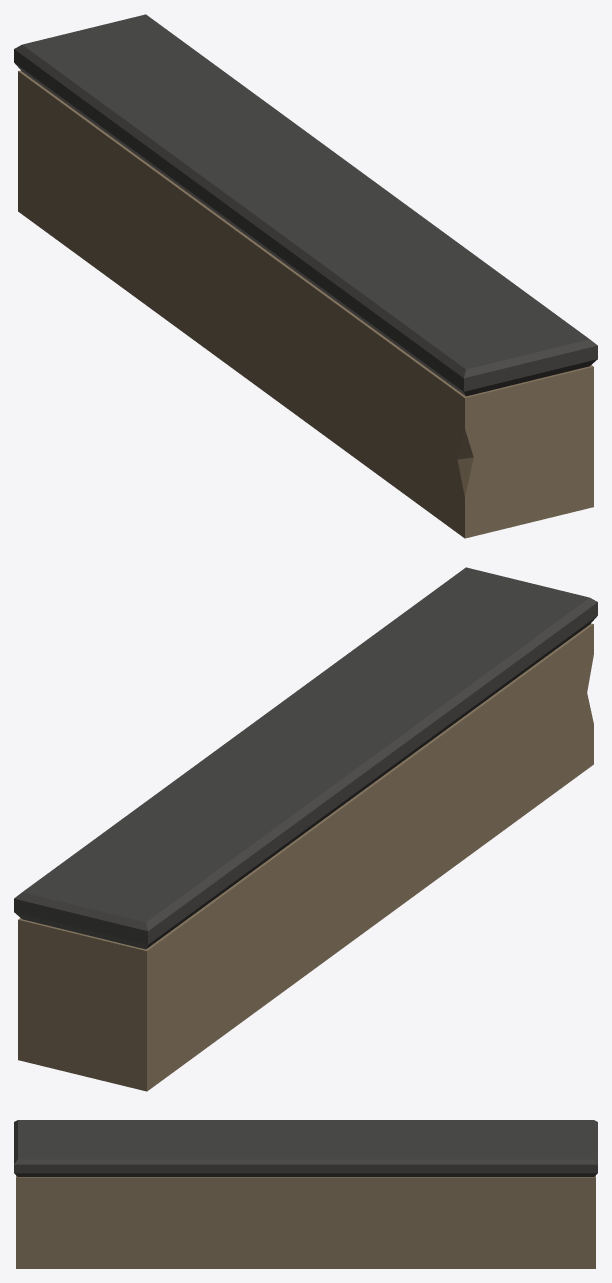
File: SM_Props_City_PlayGround_Skatepark_Element_01.fbx
The picture shows the model from 3 angles, top to bottom: view 1: azimuth 30°, elevation 25°; view 2: azimuth 150°, elevation 25°; view 3: azimuth 270°, elevation 25°; orthographic projection. The views are drawn at different scales.
Visible parts, largest first — view 1: SM_Props_City_PlayGround_Skatepark_Element_01; view 2: SM_Props_City_PlayGround_Skatepark_Element_01; view 3: SM_Props_City_PlayGround_Skatepark_Element_01.
Part boxes in pixels (x1,y1,x2,y2): SM_Props_City_PlayGround_Skatepark_Element_01: [14, 14, 597, 538]; SM_Props_City_PlayGround_Skatepark_Element_01: [14, 567, 597, 1091]; SM_Props_City_PlayGround_Skatepark_Element_01: [14, 1120, 597, 1268].
Size of the model in its own units: 52 by 62 by 302.
